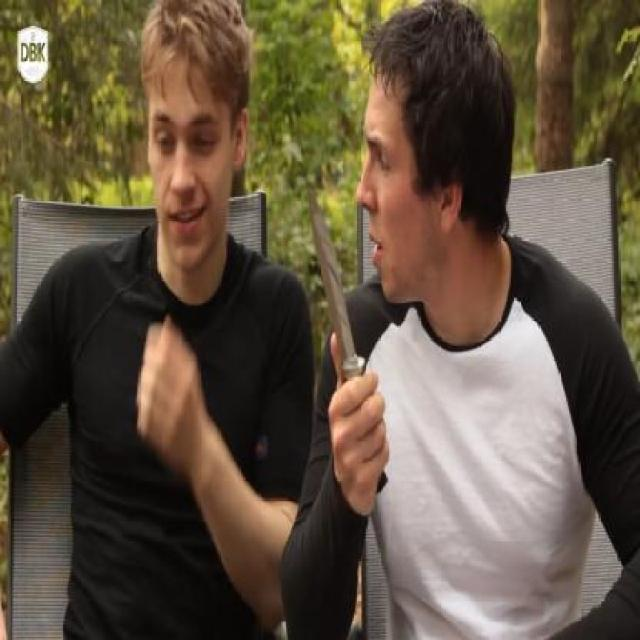knife: (297, 153, 388, 450)
